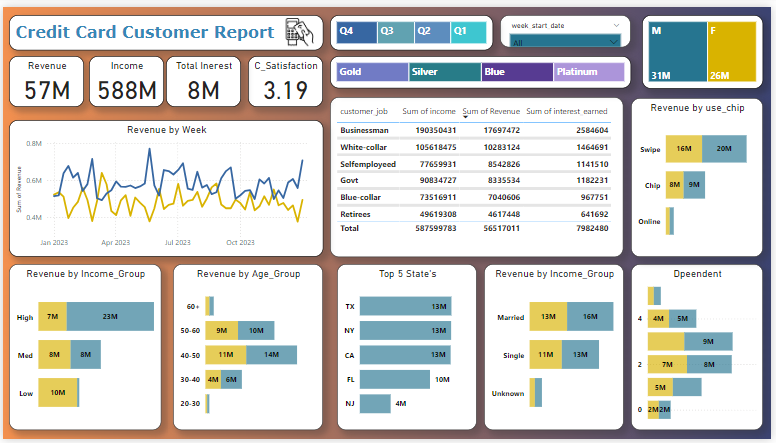

This screenshot's page, from the dashboard's own definition file:
{"tool":"powerbi","page":{"name":"Creadit_Card_Customer_Report","canvas":[1280,720],"ordinal":1},"visuals":[{"type":"textbox","box":[10.1,13,524.2,59],"z":0},{"type":"tableEx","fields":{"Values":["public customer.customer_job","Sum(public customer.income)","Sum(public credit_card.Revenue)","Sum(public credit_card.interest_earned)"]},"box":[544.3,149.5,488.8,267.1],"z":7},{"type":"card","title":"Revenue","fields":{"Values":["Sum(public credit_card.Revenue)"]},"box":[10.1,82.1,125.3,85],"z":8},{"type":"card","title":"Income","fields":{"Values":["Sum(public customer.income)"]},"box":[144,82.1,125.3,85],"z":9},{"type":"card","title":"C_Satisfaction","fields":{"Values":["Avg(public customer.cust_satisfaction_score)"]},"box":[409,82.1,125.3,85],"z":10},{"type":"card","title":"Total Inerest","fields":{"Values":["Sum(public credit_card.interest_earned)"]},"box":[272.2,82.1,125.3,85],"z":11},{"type":"slicer","fields":{"Values":["public credit_card.week_start_date"]},"box":[828.1,13.4,218.4,53.8],"z":13},{"type":"treemap","fields":{"Group":["public credit_card.qtr"],"Values":["Avg(public credit_card.client_num)"]},"box":[544.3,13,272.2,59],"z":14},{"type":"treemap","fields":{"Values":["Avg(public credit_card.client_num)"],"Group":["public credit_card.card_category"]},"box":[544.3,82.3,502.3,53.8],"z":16},{"type":"lineChart","title":" Revenue by Week","fields":{"Y":["Sum(public credit_card.Revenue)"],"Series":["public customer.gender"],"Category":["public credit_card.week_start_date.Variation.Date Hierarchy.Year","public credit_card.week_start_date.Variation.Date Hierarchy.Month","public credit_card.week_start_date.Variation.Date Hierarchy.Day"]},"box":[10.1,188.1,524.1,228.5],"z":18},{"type":"treemap","fields":{"Group":["public customer.gender"],"Values":["Sum(public credit_card.Revenue)"]},"box":[1065,13.4,201.6,122.6],"z":19},{"type":"barChart","title":"Revenue by Income_Group","fields":{"Y":["Sum(public credit_card.Revenue)"],"Category":["public customer.Income_Group"],"Series":["public customer.gender"]},"box":[10.1,428.3,253.6,277.2],"z":20},{"type":"barChart","title":"Revenue by Age_Group","fields":{"Y":["Sum(public credit_card.Revenue)"],"Category":["public customer.Age_Group"],"Series":["public customer.gender"]},"box":[283.9,428.3,250.3,277.2],"z":21},{"type":"barChart","title":"Top 5 State''s","fields":{"Y":["Sum(public credit_card.Revenue)"],"Category":["public customer.state_cd"]},"box":[556,428.3,233.5,277.2],"z":22},{"type":"barChart","title":"Revenue by Income_Group","fields":{"Y":["Sum(public credit_card.Revenue)"],"Category":["public customer.marital_status"],"Series":["public customer.gender"]},"box":[801.3,428.3,233.5,277.2],"z":23},{"type":"barChart","title":"Dpeendent ","fields":{"Y":["Sum(public credit_card.Revenue)"],"Category":["public customer.dependent_count"],"Series":["public customer.gender"]},"box":[1046.5,428.3,220.1,277.2],"z":24},{"type":"barChart","title":"Revenue by use_chip","fields":{"Category":["public credit_card.use_chip"],"Y":["Sum(public credit_card.Revenue)"],"Series":["public customer.gender"]},"box":[1046.5,151.2,220.1,265.4],"z":25},{"type":"image","box":[455.2,13.4,79,57.1],"z":26}]}

Visuals, with their boxes in screenshot pixels (x1, y1, x2, y2), scaled from the page's 1280x720 canvas onto the 776x443 screenshot:
textbox: (x1=6, y1=8, x2=324, y2=44)
tableEx - public customer.customer_job x Sum(public customer.income): (x1=330, y1=92, x2=626, y2=256)
"Revenue" card: (x1=6, y1=51, x2=82, y2=103)
"Income" card: (x1=87, y1=51, x2=163, y2=103)
"C_Satisfaction" card: (x1=248, y1=51, x2=324, y2=103)
"Total Inerest" card: (x1=165, y1=51, x2=241, y2=103)
slicer - public credit_card.week_start_date: (x1=502, y1=8, x2=634, y2=41)
treemap - public credit_card.qtr x Avg(public credit_card.client_num): (x1=330, y1=8, x2=495, y2=44)
treemap - Avg(public credit_card.client_num) x public credit_card.card_category: (x1=330, y1=51, x2=635, y2=84)
" Revenue by Week" lineChart: (x1=6, y1=116, x2=324, y2=256)
treemap - public customer.gender x Sum(public credit_card.Revenue): (x1=646, y1=8, x2=768, y2=84)
"Revenue by Income_Group" barChart: (x1=6, y1=264, x2=160, y2=434)
"Revenue by Age_Group" barChart: (x1=172, y1=264, x2=324, y2=434)
"Top 5 State''s" barChart: (x1=337, y1=264, x2=479, y2=434)
"Revenue by Income_Group" barChart: (x1=486, y1=264, x2=627, y2=434)
"Dpeendent " barChart: (x1=634, y1=264, x2=768, y2=434)
"Revenue by use_chip" barChart: (x1=634, y1=93, x2=768, y2=256)
image: (x1=276, y1=8, x2=324, y2=43)
